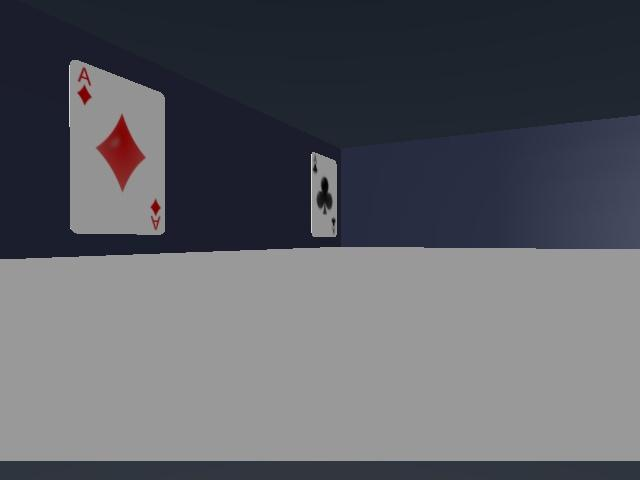club: (311, 153, 337, 236)
diamond: (69, 60, 165, 234)
